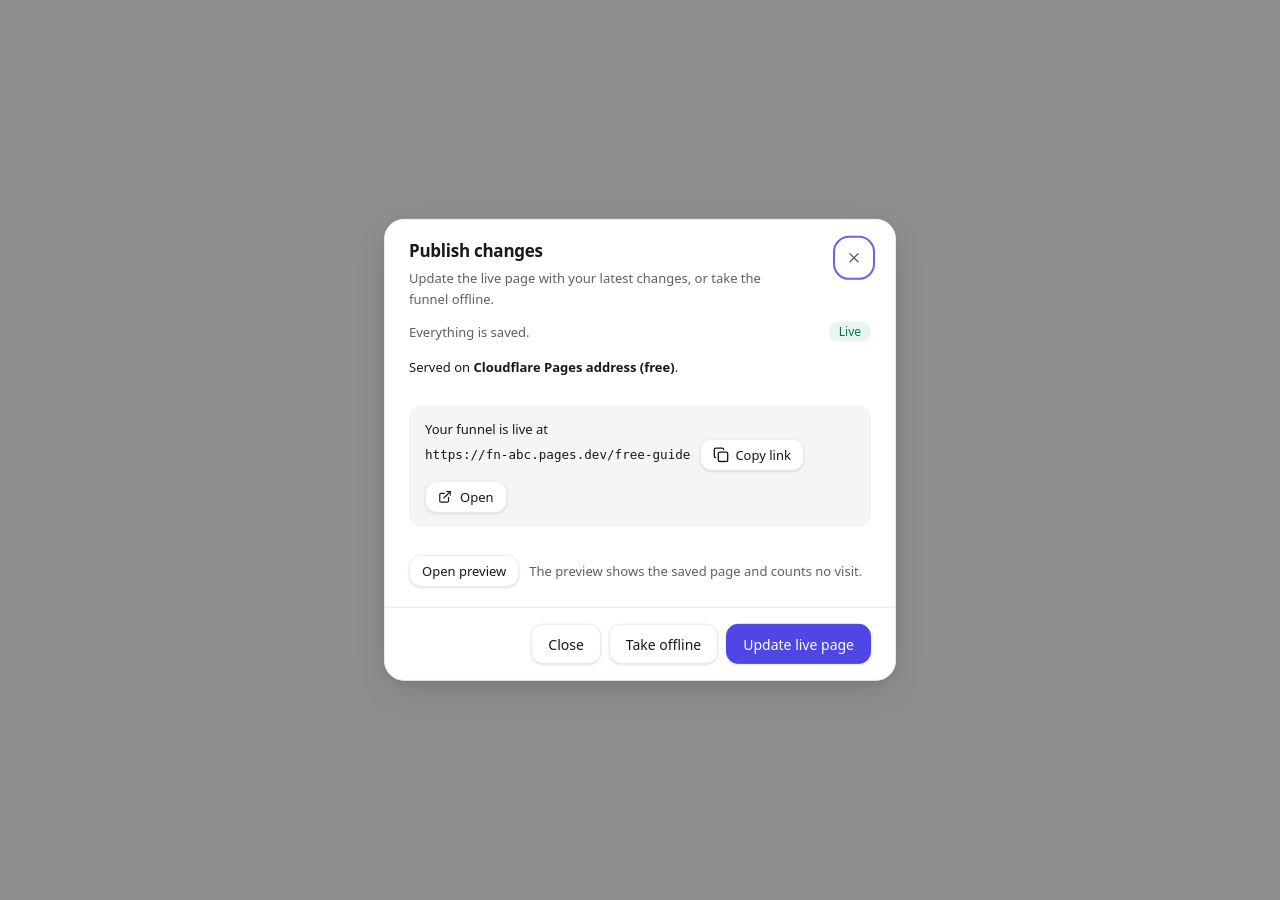
Test: PublishDialog › live on pages.dev: Update live page saves and then redeploys
The width and height of the screenshot is (1280, 900).
Click the button "Update live page" at (799, 644), box [726, 624, 871, 664]
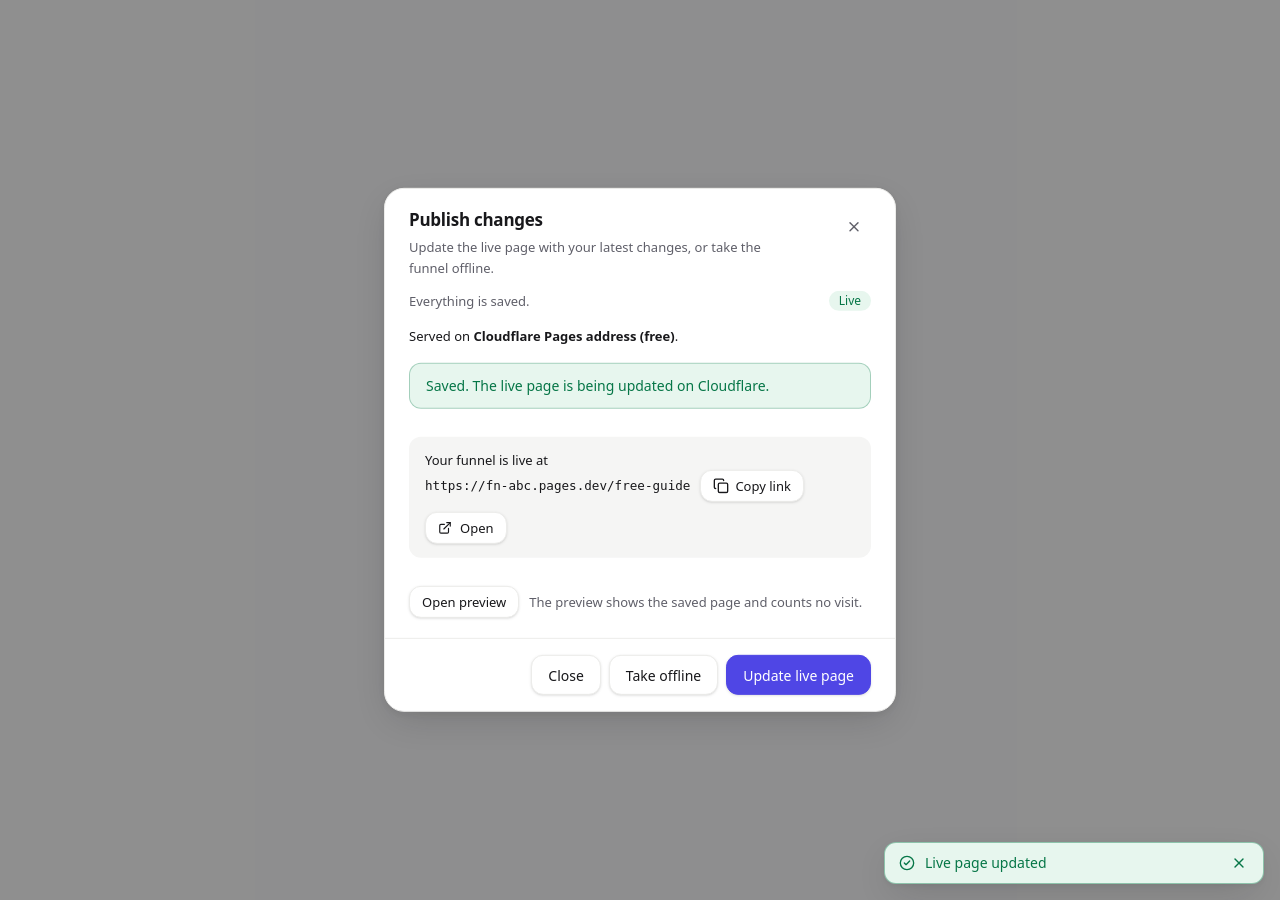
Result: the text "Saved. The live page is being updated on Cloudflare." is shown at [409, 363, 871, 409]
